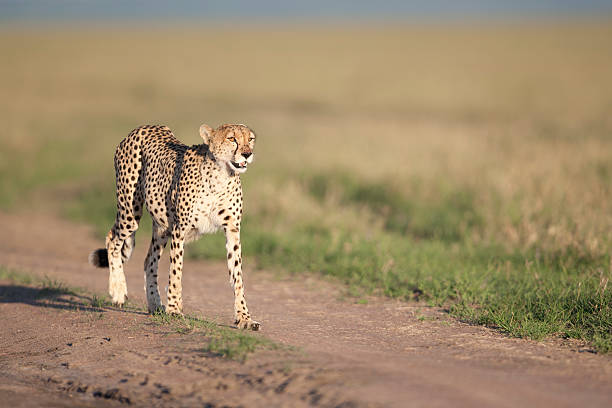cheetah: (184, 115, 263, 185)
